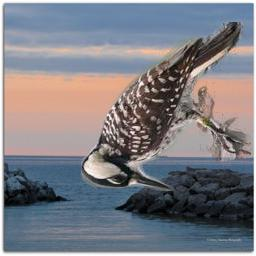Woodpecker: (81, 23, 252, 192)
